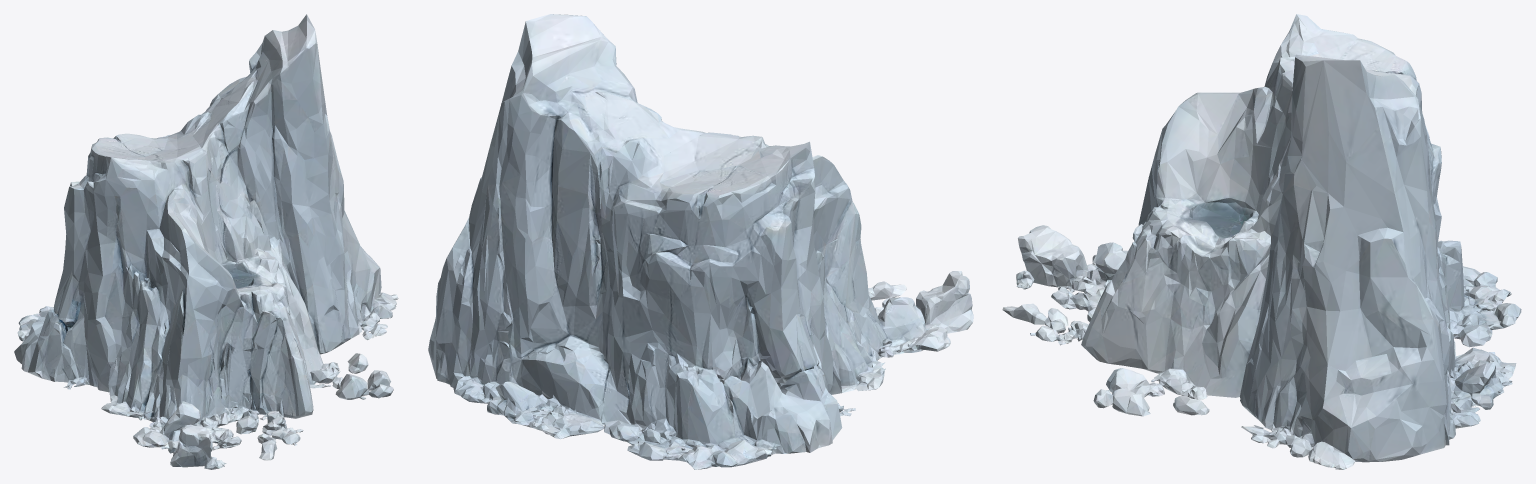
File: climate.glb
3 renders of one model, left to right at view 1: azimuth 30°, elevation 25°; view 2: azimuth 150°, elevation 25°; view 3: azimuth 270°, elevation 25°, orthographic. The views are drawn at different scales.
Parts seen in each view (by area): view 1: GLTF; view 2: GLTF; view 3: GLTF.
Part boxes in pixels (box(x1,y1,x2,y2)): GLTF: box(14, 14, 398, 469); GLTF: box(428, 14, 973, 469); GLTF: box(1002, 14, 1521, 469).
Size of the model in its own units: 0.9684 by 0.7698 by 0.9997.
1 material, 1 textured.
